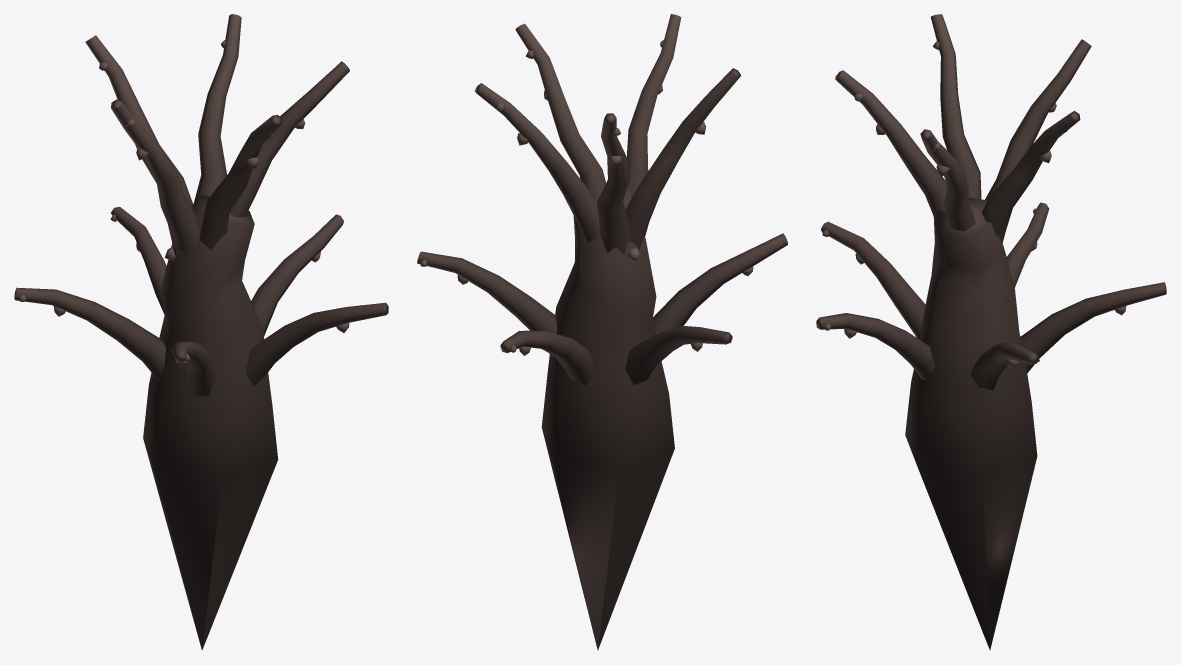
Rendered from plants-bushes-twigs-bare-shrub_v6.glb.
3 views of the same model, side by side, from view 1: azimuth 30°, elevation 25°; view 2: azimuth 150°, elevation 25°; view 3: azimuth 270°, elevation 25° (orthographic). The views are drawn at different scales.
Visible parts, largest first — view 1: Bare Shrub_v6; view 2: Bare Shrub_v6; view 3: Bare Shrub_v6.
Part boxes in pixels (x1,y1,x2,y2): Bare Shrub_v6: (14, 14, 388, 650); Bare Shrub_v6: (417, 14, 787, 650); Bare Shrub_v6: (816, 14, 1166, 650).
Bounding box in the file's own units: 0.4523 × 0.8 × 0.4351.
